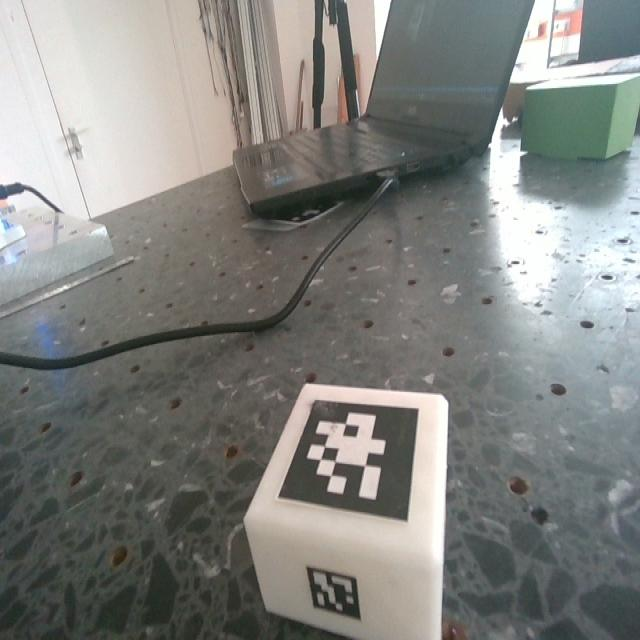Cube: (244, 384, 450, 639)
